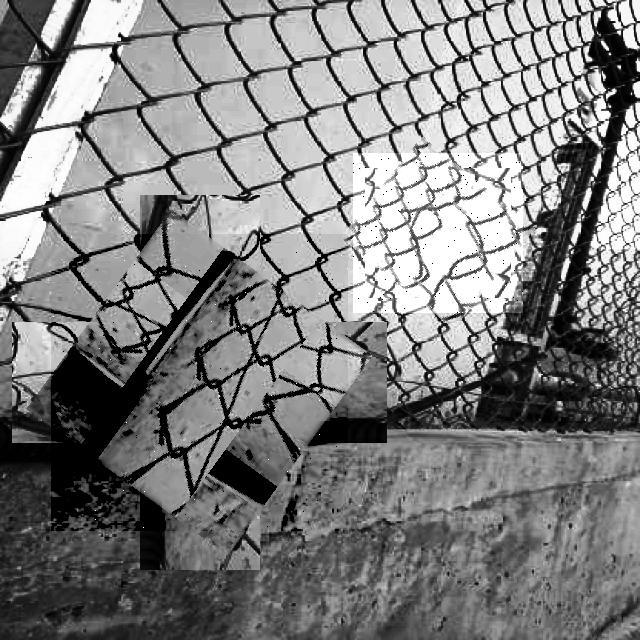anomaly-fence: (51, 234, 348, 531), (353, 153, 523, 313)
